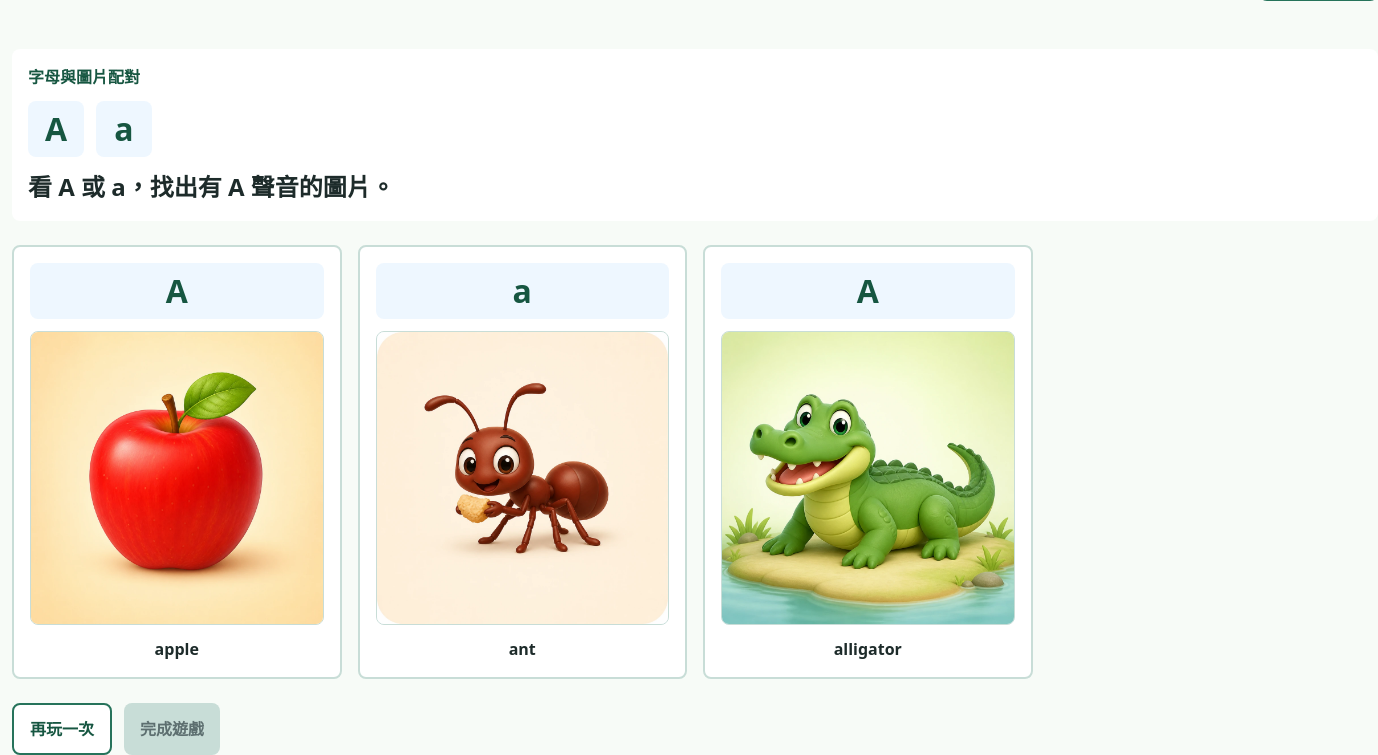
Test case: GamePage › 字母圖片配對可逐一完成三張圖片
(page scrolled)
Click the button named "一顆帶著綠葉的紅蘋果" at {"x": 177, "y": 462}, box [12, 245, 342, 679]
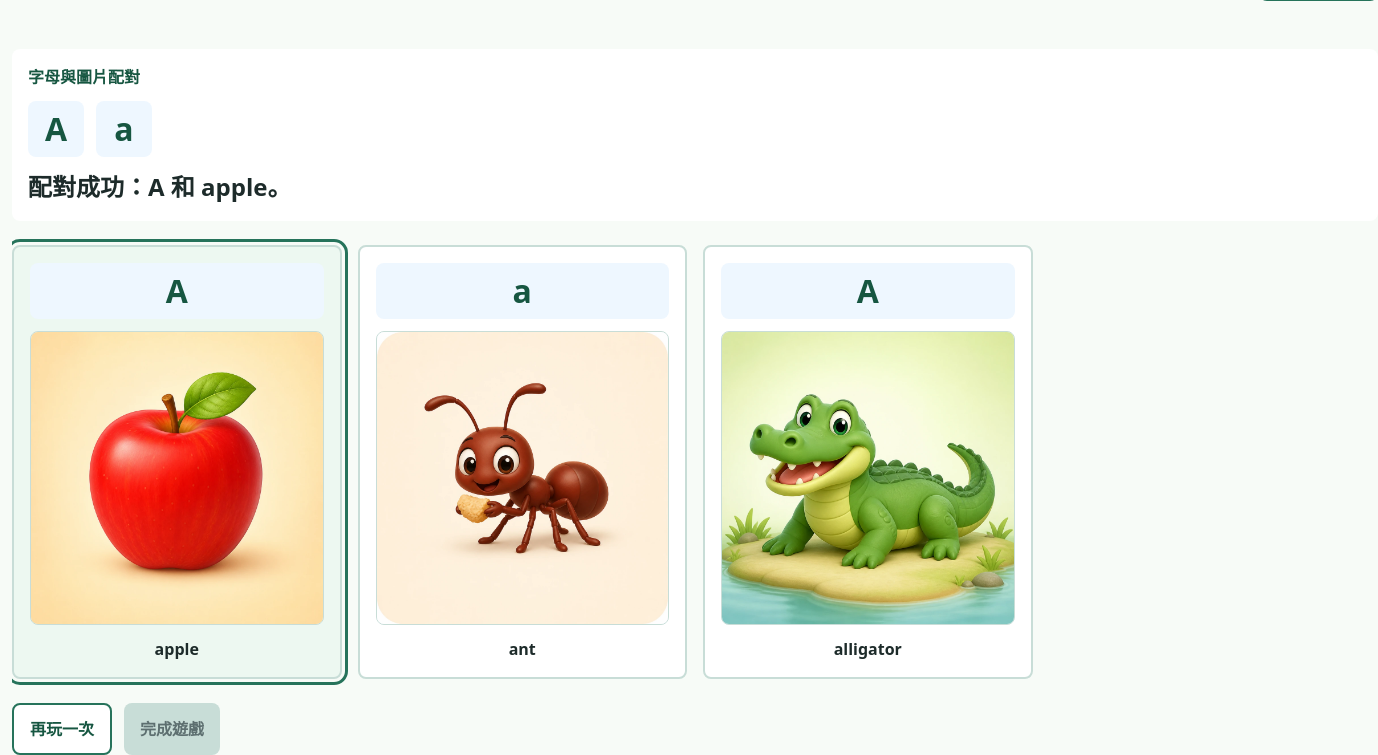
Now the heading "配對成功：A 和 apple。" is shown, box [28, 170, 291, 203]
Click the button named "一隻正在搬食物的小螞蟻" at {"x": 522, "y": 462}, box [358, 245, 687, 679]
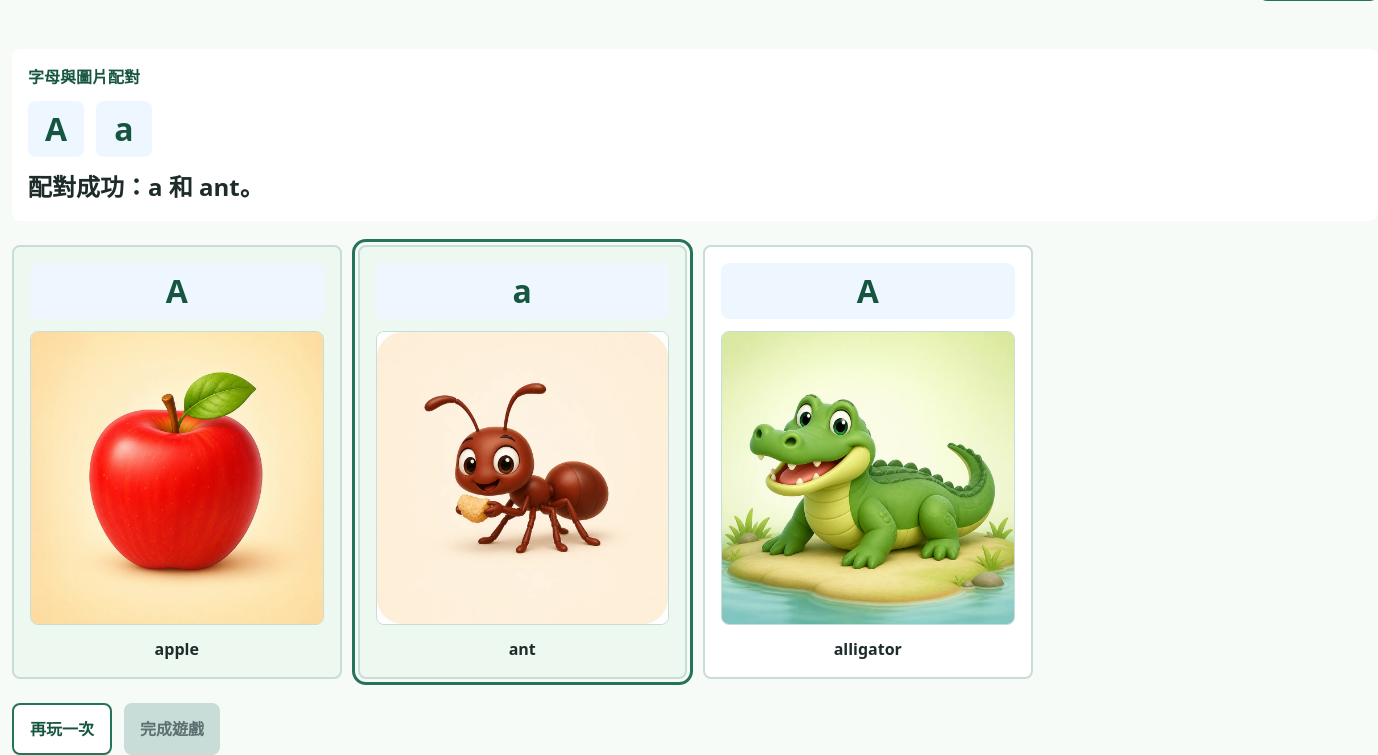
Click the button named "一隻張開嘴巴的友善短吻鱷" at {"x": 868, "y": 462}, box [703, 245, 1032, 679]
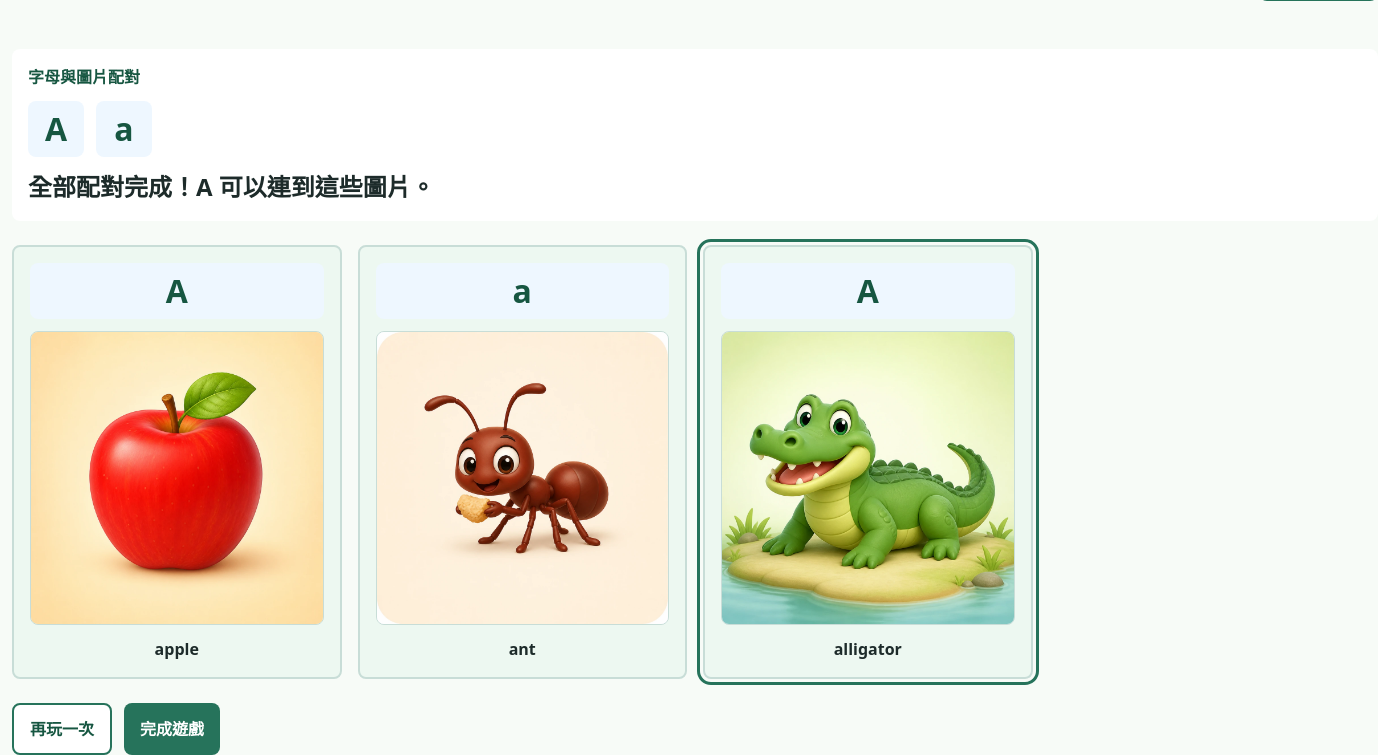
Now the heading "全部配對完成！A 可以連到這些圖片。" is shown, box [28, 170, 435, 203]
